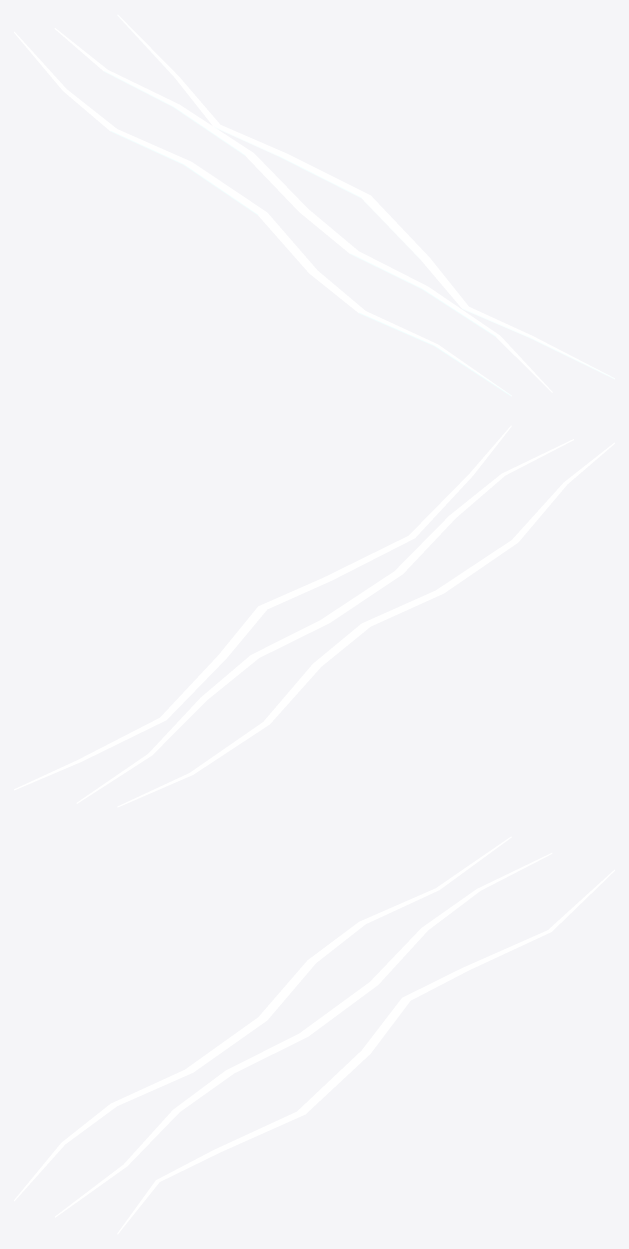
File: SM_Env_WindCurrent_LQ.glb
The picture shows the model from 3 angles, top to bottom: view 1: azimuth 30°, elevation 25°; view 2: azimuth 150°, elevation 25°; view 3: azimuth 330°, elevation 25°; orthographic projection.
Parts seen in each view (by area): view 1: SM_Env_WindCurrent_LQ; view 2: SM_Env_WindCurrent_LQ; view 3: SM_Env_WindCurrent_LQ.
Boxes of the visible parts, x1,y1,x2,y2 form: SM_Env_WindCurrent_LQ: (14, 14, 614, 396); SM_Env_WindCurrent_LQ: (14, 425, 614, 807); SM_Env_WindCurrent_LQ: (14, 836, 614, 1234).
Size of the model in its own units: 9.47 by 2.23 by 60.
1 material, 1 textured.
